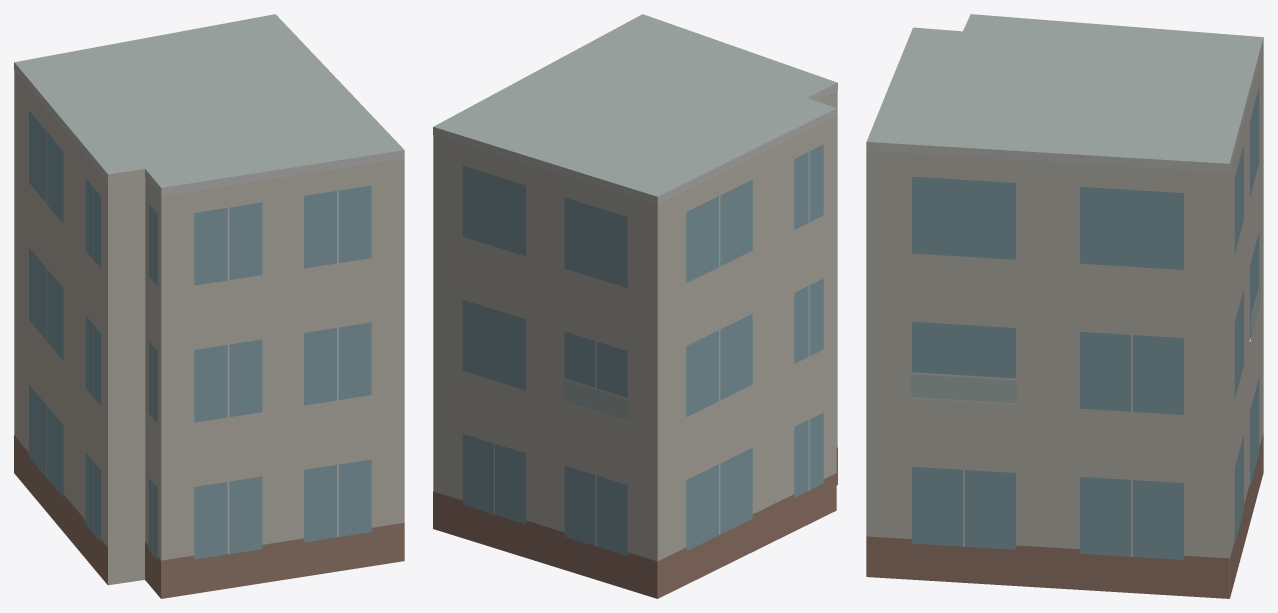
File: survey-upis-32512783.glb
3 views of the same model, side by side, from view 1: azimuth 30°, elevation 25°; view 2: azimuth 150°, elevation 25°; view 3: azimuth 270°, elevation 25° (orthographic). The views are drawn at different scales.
Visible parts, largest first — view 1: survey-upis-32512783.tmp; view 2: survey-upis-32512783.tmp; view 3: survey-upis-32512783.tmp.
Boxes of the visible parts, bbox=[...] form: survey-upis-32512783.tmp: bbox=[14, 14, 404, 598]; survey-upis-32512783.tmp: bbox=[433, 14, 837, 598]; survey-upis-32512783.tmp: bbox=[866, 14, 1263, 598].
Size of the model in its own units: 8.94 by 12.1 by 10.02.
